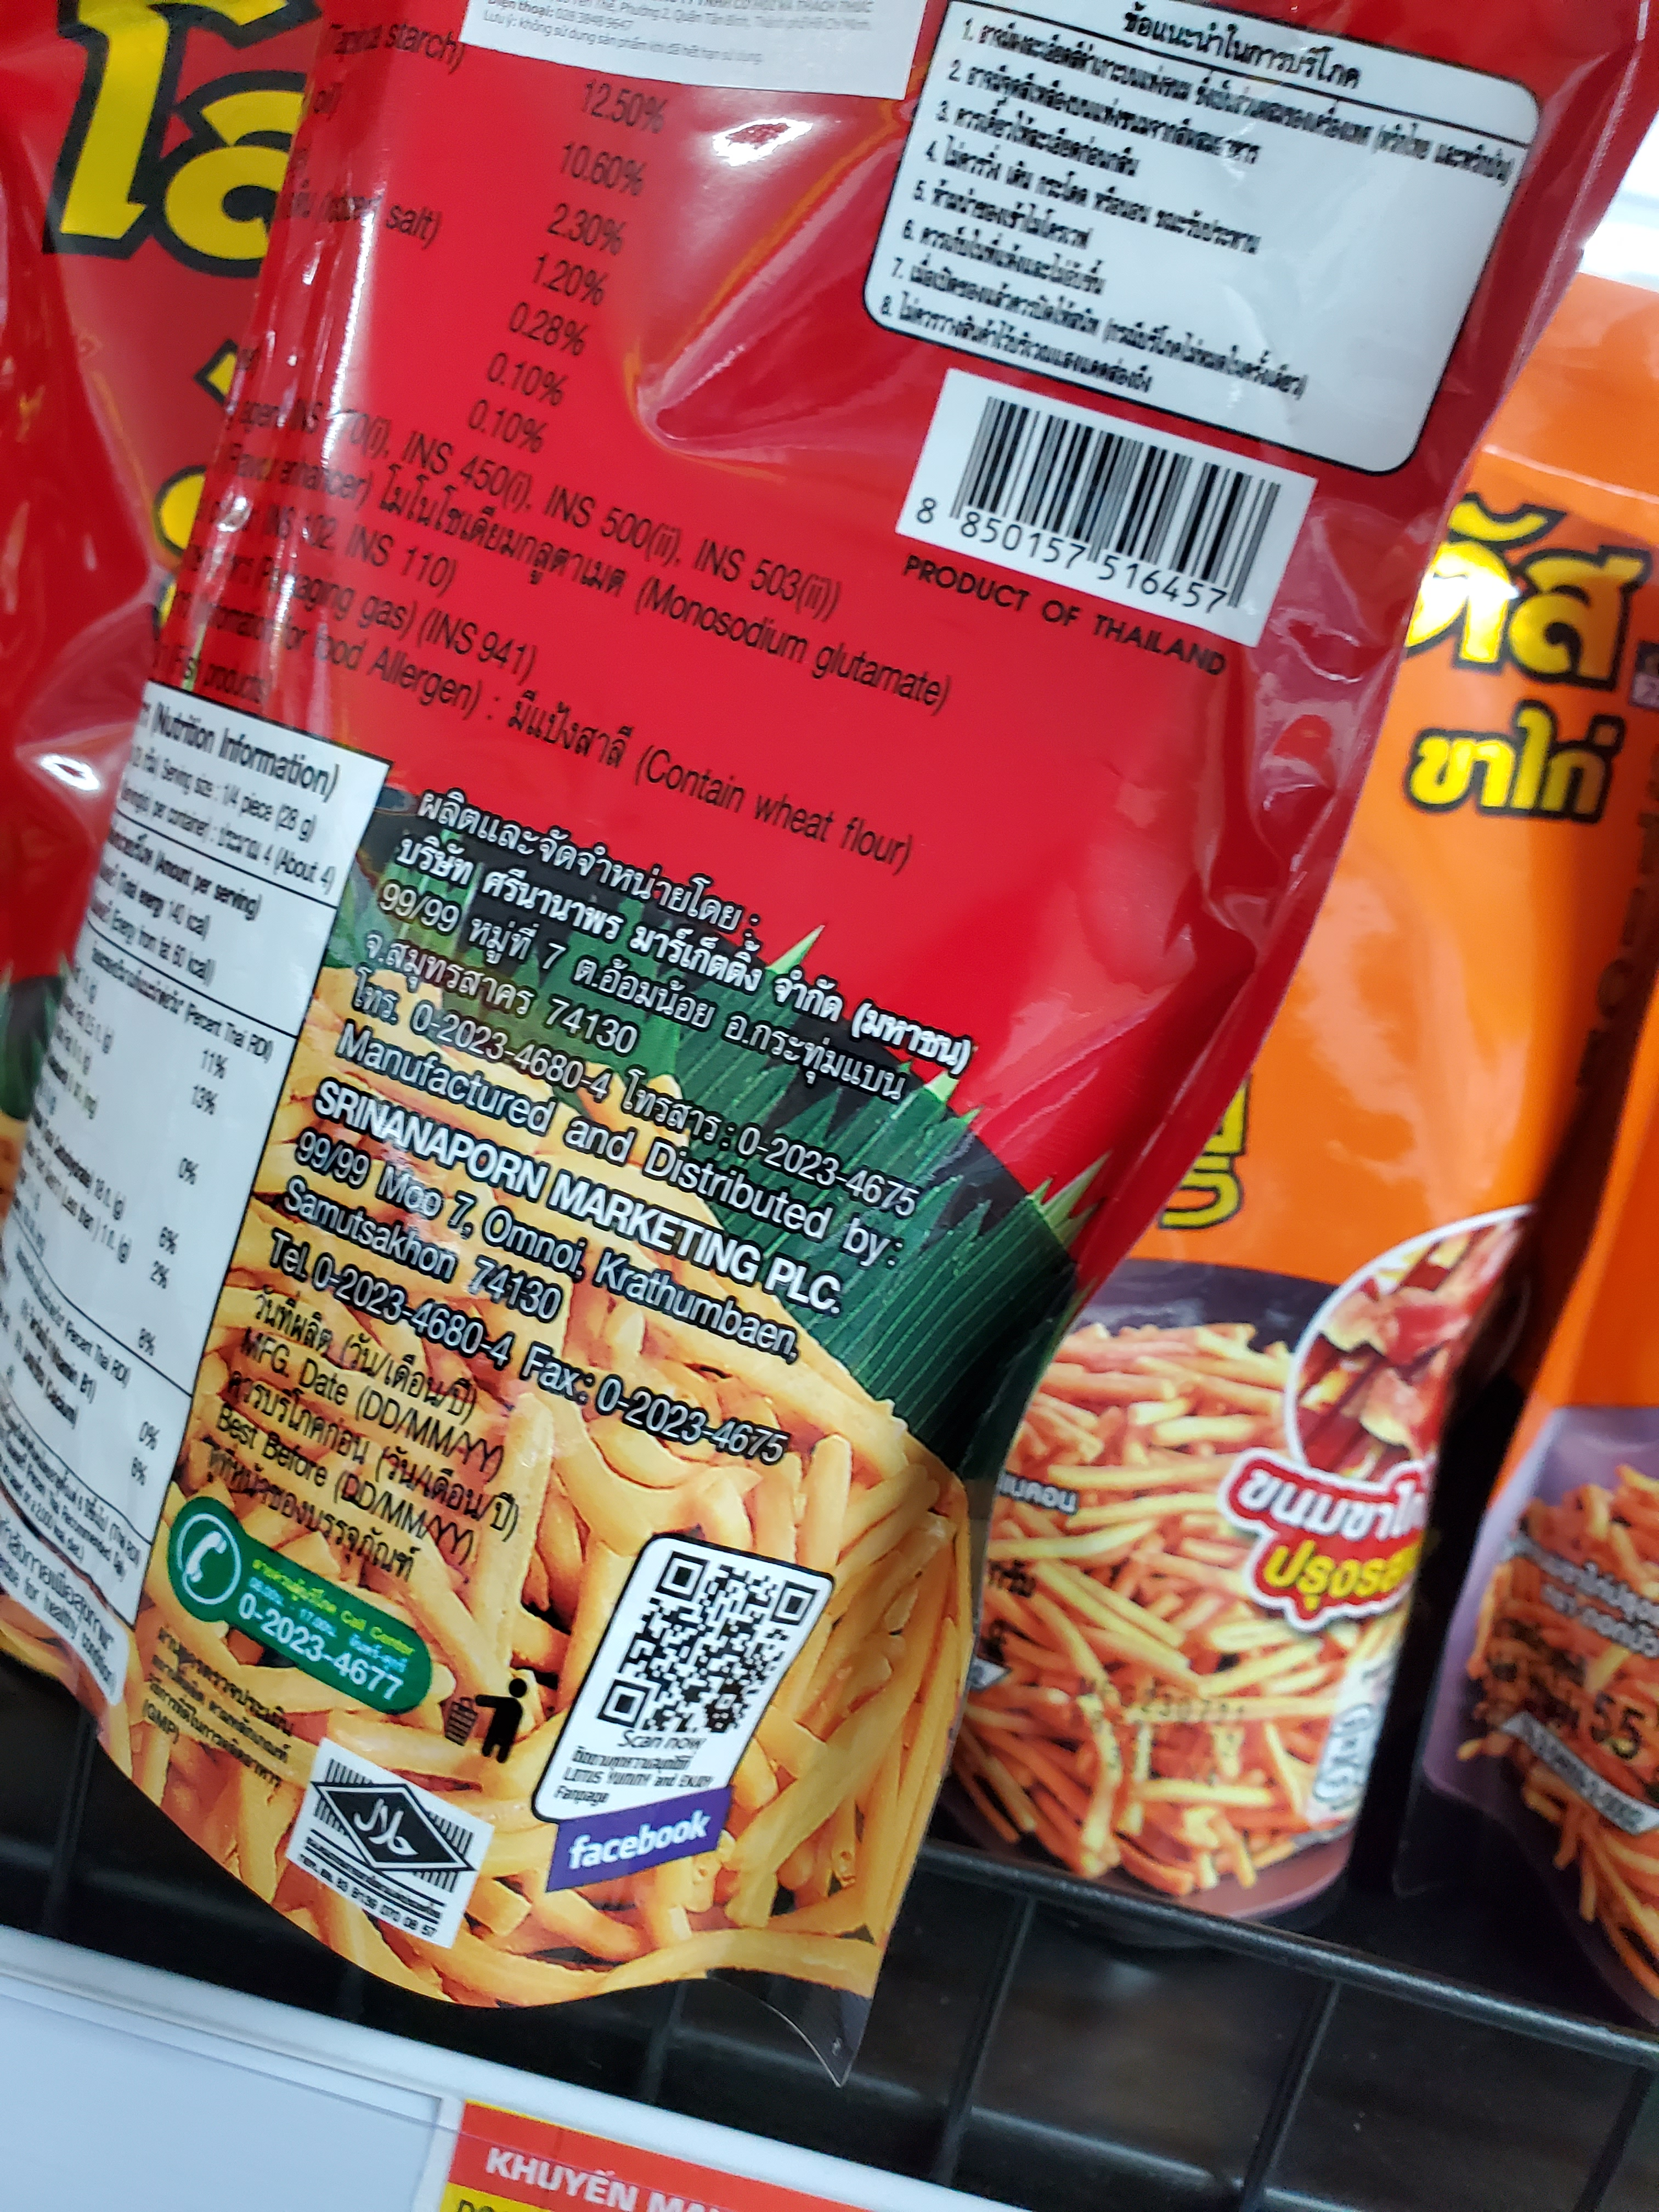barcode: (890, 385, 1293, 641)
qr code: (587, 1541, 840, 1759)
